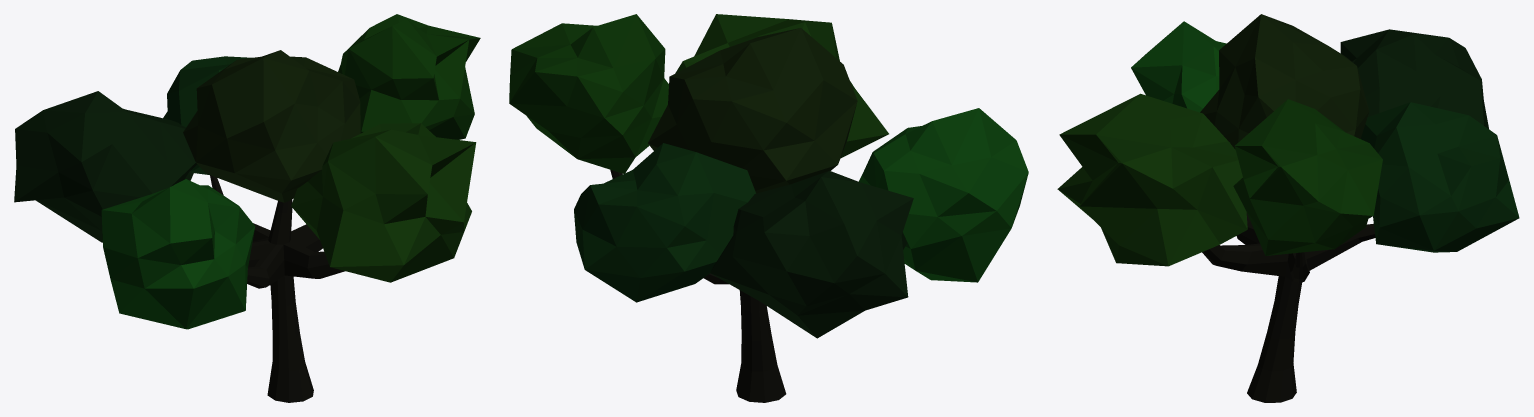
The model's file is lowpolytree.obj.
3 renders of one model, left to right at view 1: azimuth 30°, elevation 25°; view 2: azimuth 150°, elevation 25°; view 3: azimuth 270°, elevation 25°, orthographic. The views are drawn at different scales.
Visible parts, largest first — view 1: Icosphere.004, Icosphere, Icosphere.002, Icosphere.001, Icosphere.003, Cylinder, Icosphere.005; view 2: Icosphere.001, Icosphere, Icosphere.005, Icosphere.002, Icosphere.003, Icosphere.004, Cylinder; view 3: Icosphere.004, Icosphere.005, Icosphere.003, Icosphere, Icosphere.001, Cylinder, Icosphere.002.
Boxes of the visible parts, x1=… form: Icosphere.004: x1=291, y1=123, x2=476, y2=282; Icosphere: x1=183, y1=50, x2=360, y2=202; Icosphere.002: x1=101, y1=179, x2=255, y2=329; Icosphere.001: x1=14, y1=91, x2=197, y2=242; Icosphere.003: x1=338, y1=14, x2=480, y2=139; Cylinder: x1=210, y1=175, x2=344, y2=402; Icosphere.005: x1=163, y1=56, x2=252, y2=174; Icosphere.001: x1=710, y1=170, x2=913, y2=338; Icosphere: x1=648, y1=28, x2=857, y2=193; Icosphere.005: x1=574, y1=143, x2=755, y2=302; Icosphere.002: x1=859, y1=108, x2=1028, y2=282; Icosphere.003: x1=509, y1=14, x2=668, y2=173; Icosphere.004: x1=675, y1=14, x2=888, y2=158; Cylinder: x1=610, y1=170, x2=786, y2=402; Icosphere.004: x1=1057, y1=93, x2=1247, y2=266; Icosphere.005: x1=1361, y1=102, x2=1519, y2=252; Icosphere.003: x1=1233, y1=99, x2=1382, y2=255; Icosphere: x1=1200, y1=14, x2=1369, y2=149; Icosphere.001: x1=1340, y1=29, x2=1488, y2=128; Cylinder: x1=1202, y1=213, x2=1375, y2=402; Icosphere.002: x1=1131, y1=21, x2=1226, y2=112.
Size of the model in its own units: 40.59 by 32 by 36.99.
